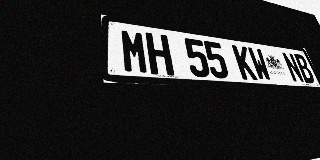5: (183, 38, 212, 78), (203, 41, 230, 79)
B: (293, 53, 316, 84)
H: (145, 32, 174, 76)
K: (231, 45, 258, 80)
M: (120, 29, 150, 74)
N: (281, 52, 305, 83)
W: (247, 47, 273, 81)
